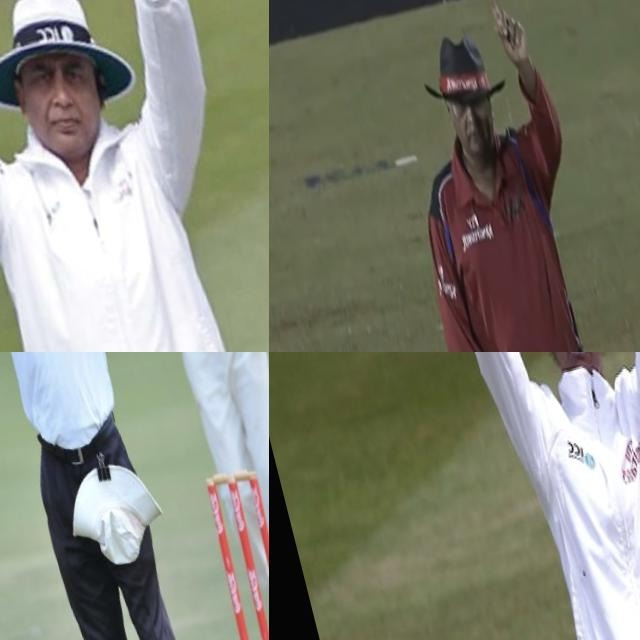Out: (355, 0, 635, 352)
Six: (0, 0, 269, 352), (397, 352, 640, 640)
Wide: (0, 352, 269, 548)
